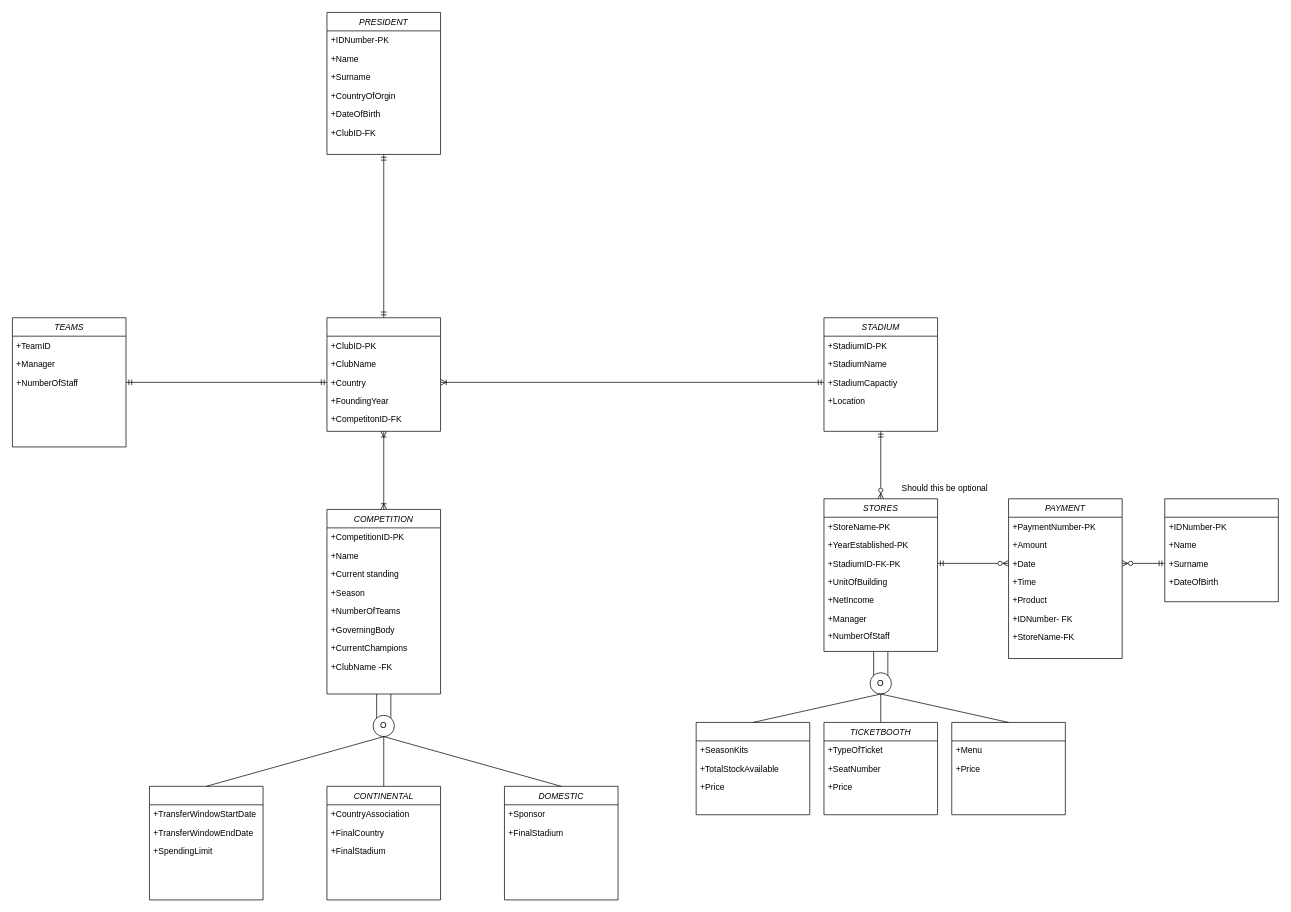
The diagram is 1291 pixels wide and 912 high, and some of its shapes have lost their labels. Here are the shapes that lost their labels. From the top down, the box of each, then its label:
(326, 317, 441, 431): FOOTBALL CLUB
(1164, 498, 1278, 602): FAN
(695, 722, 810, 815): MERCHANDISE
(951, 722, 1065, 815): FOODSTALL
(149, 786, 263, 900): LEAGUE
